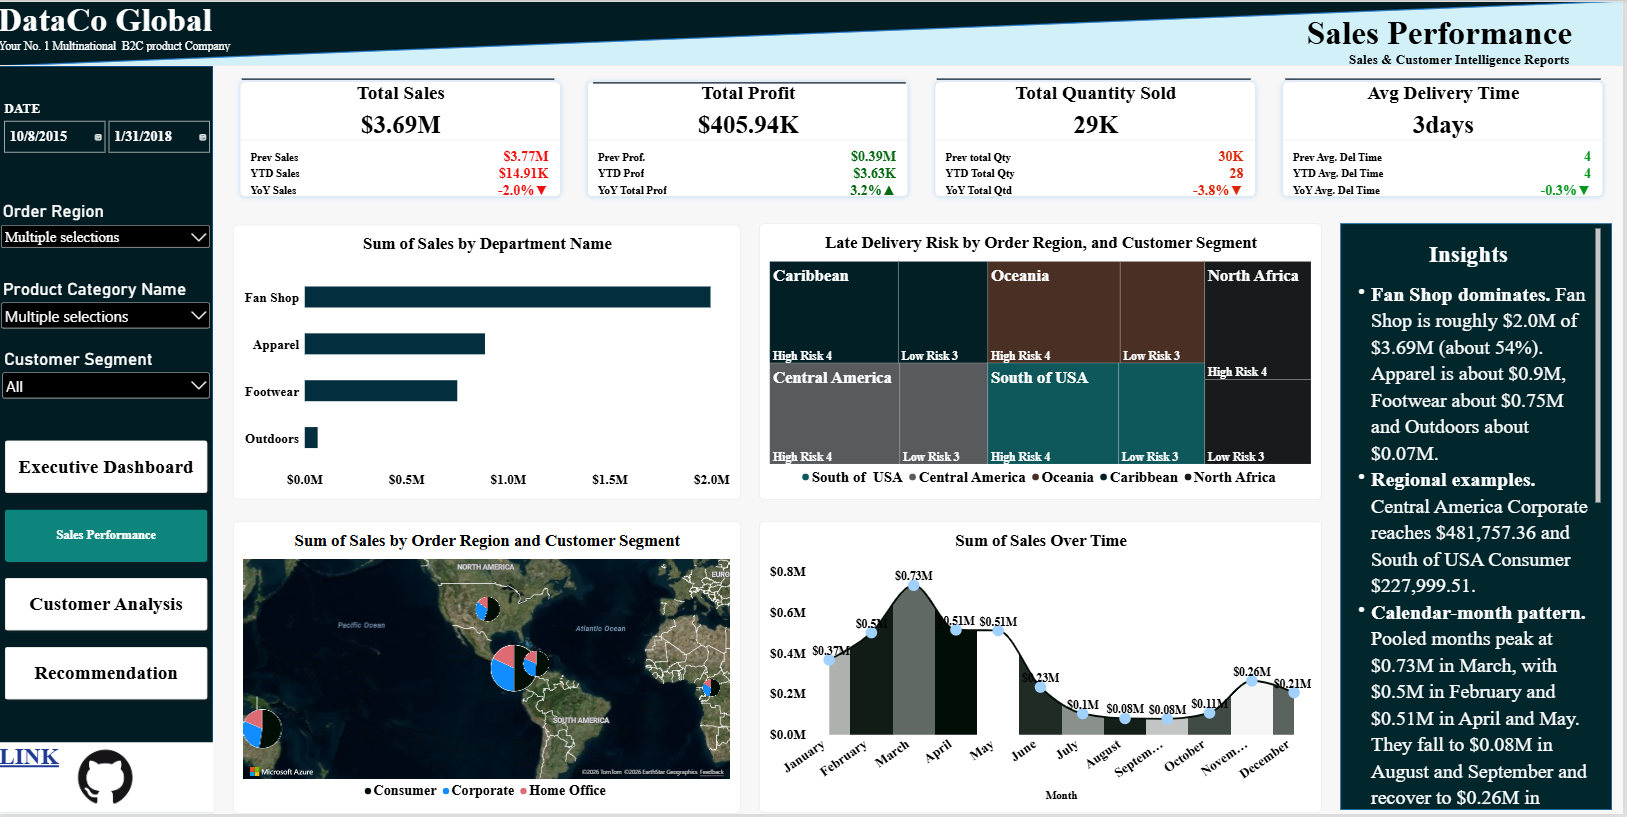

Layout of this report page (visuals, bound fields, positions):
{"tool":"powerbi","page":{"name":"Sales Performance","canvas":[2600,1300],"ordinal":1},"visuals":[{"type":"clusteredBarChart","fields":{"Category":["Dim_Product.Department Name"],"Y":["Sum(FactSales.Sales)"]},"box":[376,358,812,440],"z":0},{"type":"azureMap","fields":{"Category":["Dim_Location.Order Region"],"Series":["Dim_Customer.Customer Segment"],"Size":["Sum(FactSales.Sales)"]},"box":[376,832,812,468],"z":1000},{"type":"shape","box":[0,0,2600,104],"z":2000},{"type":"shape","box":[0,0,2600,104],"z":3000},{"type":"shape","box":[0,104,344,1194],"z":4000},{"type":"slicer","fields":{"Values":["Dim_Customer.Customer Segment"]},"box":[2,556,342,104],"z":5000},{"type":"textbox","box":[0,0,406.8,104.7],"z":6000},{"type":"cardVisual","fields":{"Data":["_Measures.Total Sales","_Measures.Total Profit","_Measures.Total Quantity","_Measures.Avg Delivery Time"]},"box":[376,118,2206,206],"z":7000},{"type":"textbox","box":[2094,20,488,140],"z":8000},{"type":"pageNavigator","box":[2,694,342,434],"z":9000},{"type":"image","box":[0,1186,344,112],"z":10000},{"type":"textbox","box":[2,1186,130,58],"z":11000},{"type":"slicer","fields":{"Values":["Dim_Dates.Date"]},"box":[2,160,342,142],"z":12000},{"type":"shape","box":[390,52,500,146],"z":13000},{"type":"shape","box":[952,72,500,118],"z":14000},{"type":"shape","box":[1502,52,502,146],"z":15000},{"type":"shape","box":[2060,52,504,146],"z":16000},{"type":"slicer","fields":{"Values":["Dim_Product.Product Category Name"]},"box":[0,444,344,88],"z":17000},{"type":"slicer","fields":{"Values":["Dim_Location.Order Region"]},"box":[0,320,344,86],"z":18000},{"type":"treemap","title":" Late Delivery Risk by Order Region, and Customer Segment","fields":{"Details":["Dim_Shipping Status.Late Delivery Risk"],"Group":["Dim_Location.Order Region","Dim_Customer.Customer Segment"],"Values":["_Measures.Avg Delivery Time"]},"box":[1218,356,900,442],"z":19000},{"type":"shape","box":[2148,356,434,938],"z":20000},{"type":"stackedAreaChart","title":"Sum of Sales Over Time","fields":{"Category":["Dim_Dates.Date.Variation.Date Hierarchy.Year","Dim_Dates.Date.Variation.Date Hierarchy.Quarter","Dim_Dates.Date.Variation.Date Hierarchy.Month"],"Y":["Sum(FactSales.Sales)"]},"box":[1218,832,900,466],"z":21000},{"type":"textbox","box":[2148,364,416,930],"z":21001}]}

Visuals, with their boxes in screenshot pixels (x1, y1, x2, y2), scaled from the page's 2600x1300 canvas onto the 1627x817 screenshot:
clusteredBarChart - Dim_Product.Department Name x Sum(FactSales.Sales): (235,225,743,502)
azureMap - Dim_Location.Order Region x Dim_Customer.Customer Segment: (235,523,743,816)
shape: (0,0,1626,65)
shape: (0,0,1626,65)
shape: (0,65,215,816)
slicer - Dim_Customer.Customer Segment: (1,349,215,415)
textbox: (0,0,255,66)
cardVisual - _Measures.Total Sales x _Measures.Total Profit: (235,74,1616,204)
textbox: (1310,13,1616,101)
pageNavigator: (1,436,215,709)
image: (0,745,215,816)
textbox: (1,745,83,782)
slicer - Dim_Dates.Date: (1,101,215,190)
shape: (244,33,557,124)
shape: (596,45,909,119)
shape: (940,33,1254,124)
shape: (1289,33,1604,124)
slicer - Dim_Product.Product Category Name: (0,279,215,334)
slicer - Dim_Location.Order Region: (0,201,215,255)
" Late Delivery Risk by Order Region, and Customer Segment" treemap: (762,224,1325,502)
shape: (1344,224,1616,813)
"Sum of Sales Over Time" stackedAreaChart: (762,523,1325,816)
textbox: (1344,229,1604,813)
